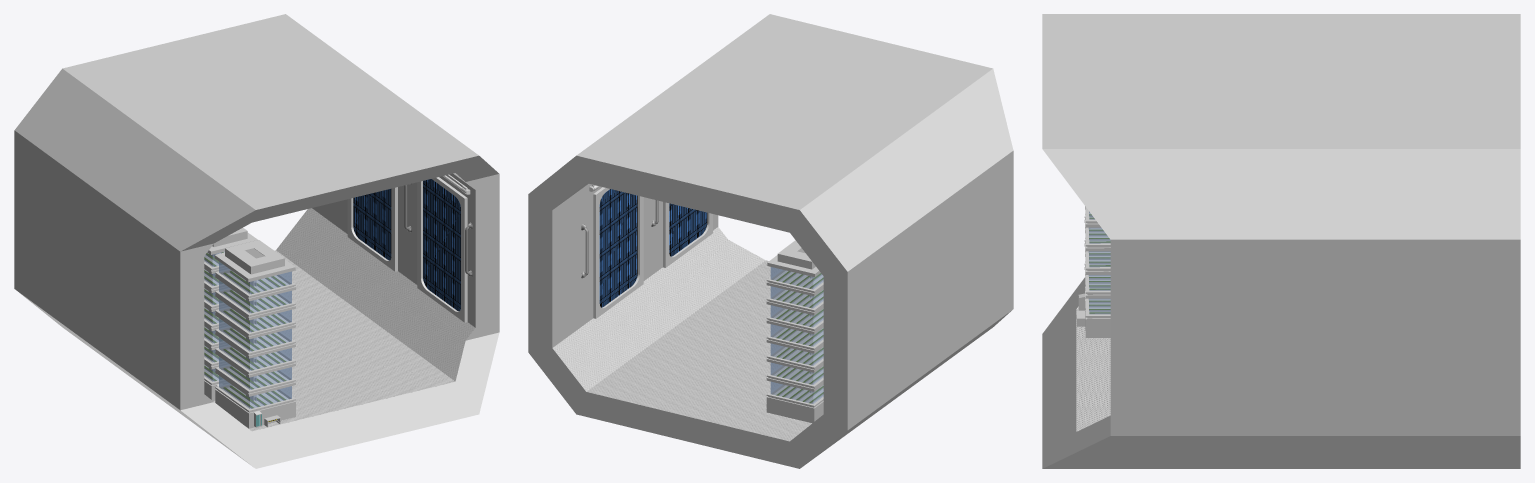
Rendered from ARKHA_Huerta_L1_V1.glb.
3 views of the same model, side by side, from view 1: azimuth 30°, elevation 25°; view 2: azimuth 150°, elevation 25°; view 3: azimuth 270°, elevation 25° (orthographic). The views are drawn at different scales.
Visible parts, largest first — view 1: 3DGeom-75, 3DGeom-77, 3DGeom-88, 3DGeom-91, 3DGeom-2 (×2), 3DGeom-1 (×2), 3DGeom-90, 3DGeom-78, 3DGeom-89, 3DGeom-81, 3DGeom-80; view 2: 3DGeom-75, 3DGeom-77, 3DGeom-108, 3DGeom-2 (×2), 3DGeom-111, 3DGeom-1 (×2), 3DGeom-110, 3DGeom-109; view 3: 3DGeom-75, 3DGeom-77, 3DGeom-88, 3DGeom-91, 3DGeom-90, 3DGeom-89.
Boxes of the visible parts, bbox=[...] form: 3DGeom-75: bbox=[14, 14, 499, 468]; 3DGeom-77: bbox=[213, 208, 474, 431]; 3DGeom-88: bbox=[214, 240, 295, 428]; 3DGeom-91: bbox=[219, 261, 291, 408]; 3DGeom-2 (×2): bbox=[353, 179, 460, 311]; 3DGeom-1 (×2): bbox=[347, 177, 467, 322]; 3DGeom-90: bbox=[222, 272, 288, 408]; 3DGeom-78: bbox=[204, 228, 257, 400]; 3DGeom-89: bbox=[224, 271, 286, 408]; 3DGeom-81: bbox=[204, 251, 224, 381]; 3DGeom-80: bbox=[204, 251, 224, 381]; 3DGeom-75: bbox=[528, 14, 1013, 468]; 3DGeom-77: bbox=[552, 227, 811, 441]; 3DGeom-108: bbox=[766, 240, 823, 423]; 3DGeom-2 (×2): bbox=[599, 189, 707, 307]; 3DGeom-111: bbox=[770, 267, 823, 403]; 3DGeom-1 (×2): bbox=[593, 187, 712, 318]; 3DGeom-110: bbox=[773, 270, 823, 403]; 3DGeom-109: bbox=[776, 271, 823, 403]; 3DGeom-75: bbox=[1042, 14, 1520, 468]; 3DGeom-77: bbox=[1076, 306, 1110, 431]; 3DGeom-88: bbox=[1076, 206, 1110, 337]; 3DGeom-91: bbox=[1088, 211, 1110, 314]; 3DGeom-90: bbox=[1089, 212, 1110, 312]; 3DGeom-89: bbox=[1089, 214, 1110, 313].
Size of the model in its own units: 4 by 3.1 by 4.2.
17 materials, 8 textured.
